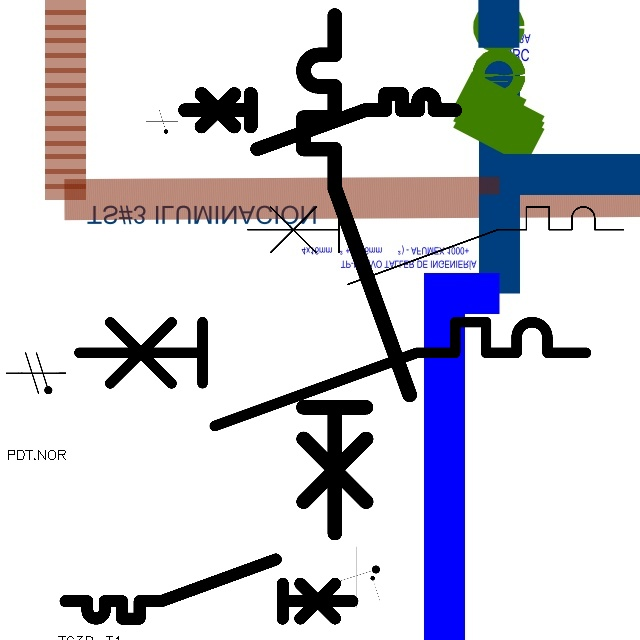interruptor_termomagnetico: (290, 2, 423, 546), (66, 309, 598, 439), (238, 197, 633, 293), (58, 552, 359, 626), (178, 87, 462, 156)
